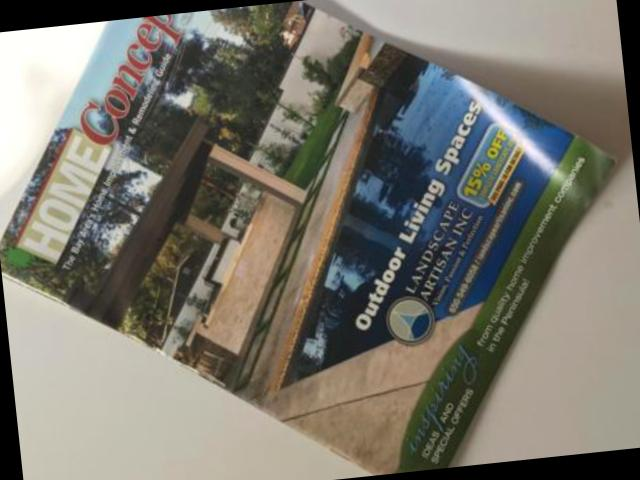cardboard paper: (0, 1, 612, 475)
